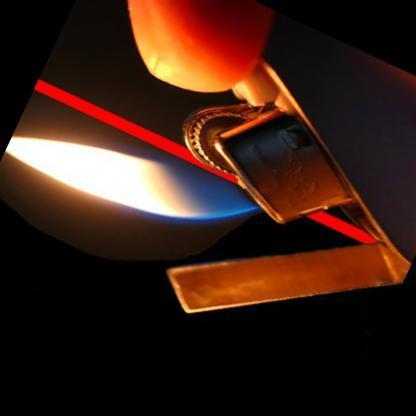Fire: (4, 136, 256, 230)
